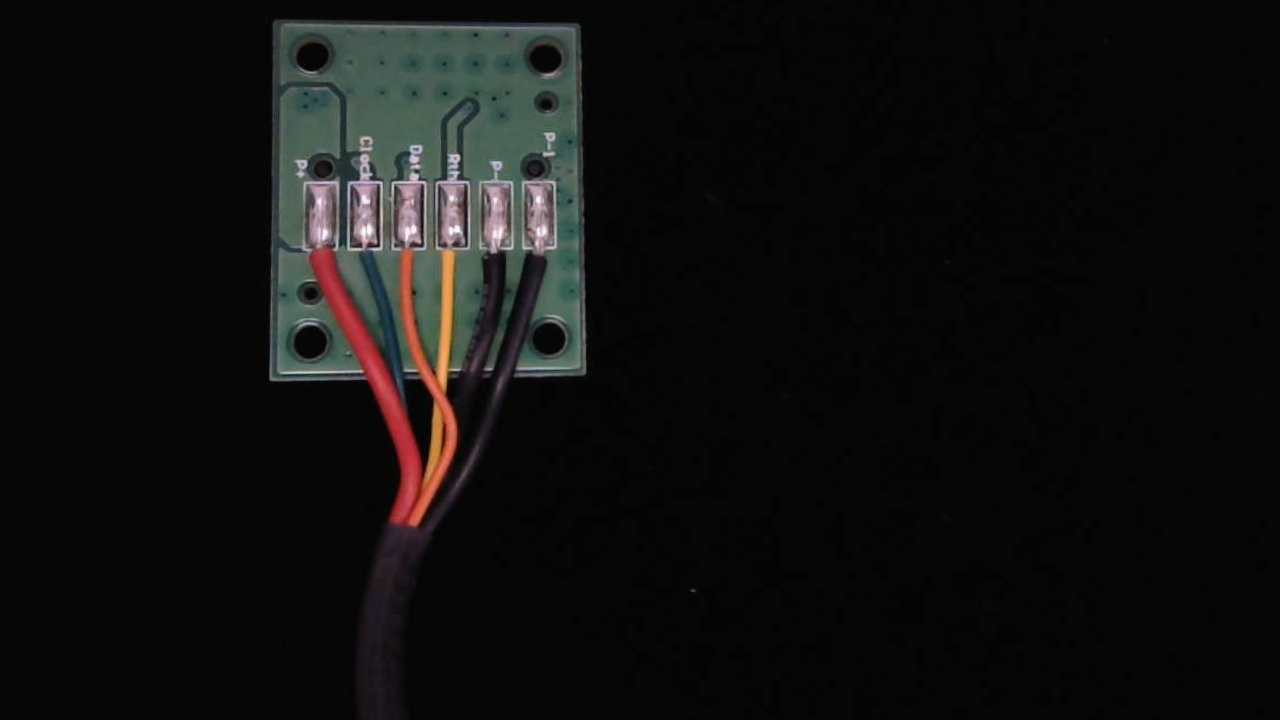Black: (477, 234, 513, 303)
Black1: (521, 234, 559, 307)
Green: (346, 231, 383, 289)
Orange: (387, 231, 426, 301)
Red: (299, 232, 341, 301)
Yellow: (434, 232, 470, 301)
